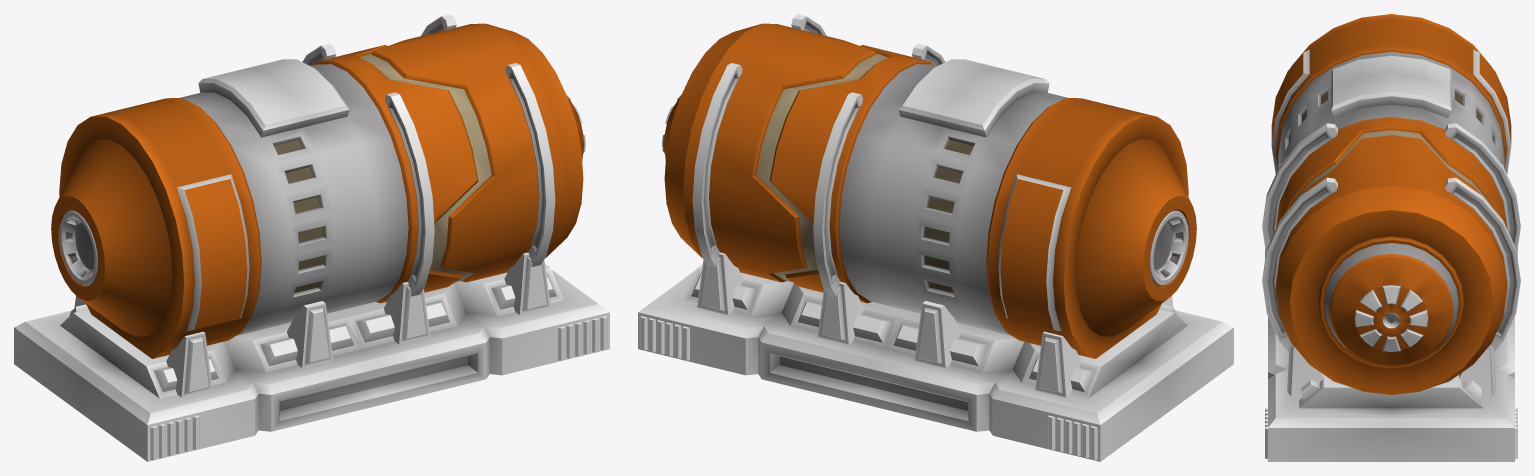
The model's file is deco_engine.FBX.
3 views of the same model, side by side, from view 1: azimuth 30°, elevation 25°; view 2: azimuth 150°, elevation 25°; view 3: azimuth 270°, elevation 25° (orthographic). The views are drawn at different scales.
Visible parts, largest first — view 1: deco_engine; view 2: deco_engine; view 3: deco_engine.
Boxes of the visible parts, x1,y1,x2,y2 form: deco_engine: (14, 14, 609, 461); deco_engine: (638, 14, 1233, 461); deco_engine: (1262, 14, 1520, 461).
Size of the model in its own units: 2.13 by 1.19 by 1.05.
